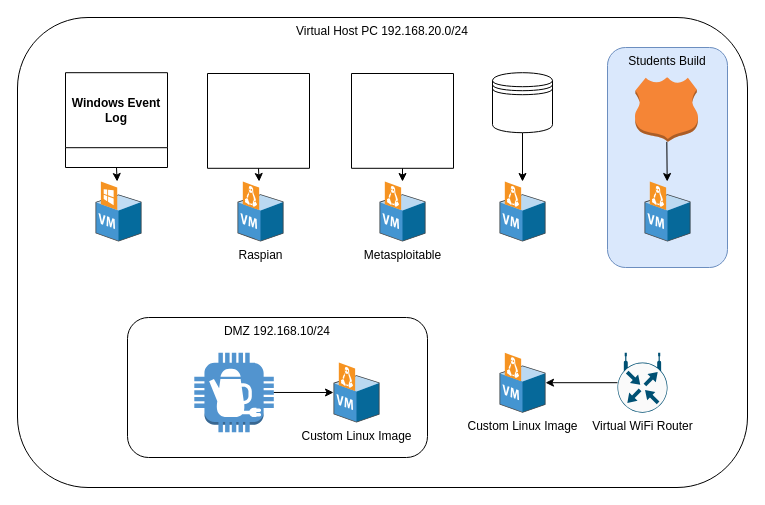
This 765x505 diagram has some shape labels left out. Here are the shapes that lost their labels. From the top down, the centre of each, then its label:
At (x=522, y=102): "SQL DB".
At (x=666, y=109): "Kali".
At (x=118, y=211): "Windows 10".
At (x=522, y=211): "Debian".
